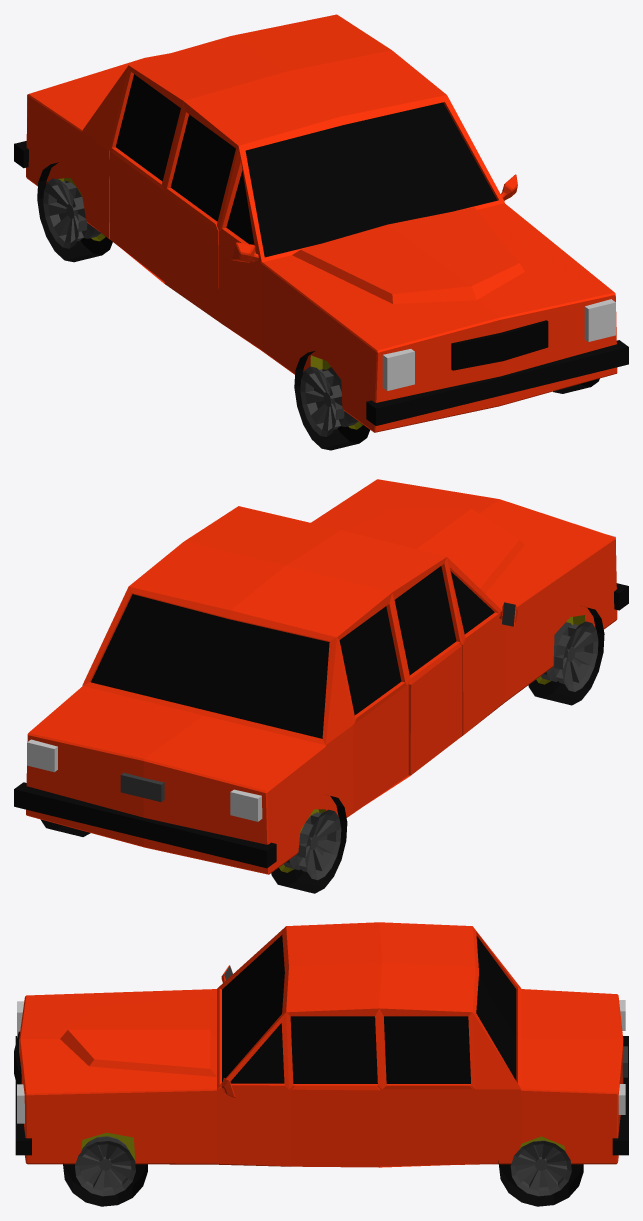
File: car_2_orange.obj
3 renders of one model, top to bottom at view 1: azimuth 30°, elevation 25°; view 2: azimuth 150°, elevation 25°; view 3: azimuth 270°, elevation 25°, orthographic. The views are drawn at different scales.
Visible parts, largest first — view 1: Cube.001; view 2: Cube.001; view 3: Cube.001.
Boxes of the visible parts, left/top/right/bottom form: Cube.001: left=14, top=14, right=628, bottom=450; Cube.001: left=14, top=479, right=628, bottom=893; Cube.001: left=14, top=922, right=628, bottom=1206.
Size of the model in its own units: 1.51 by 1.14 by 3.36.
